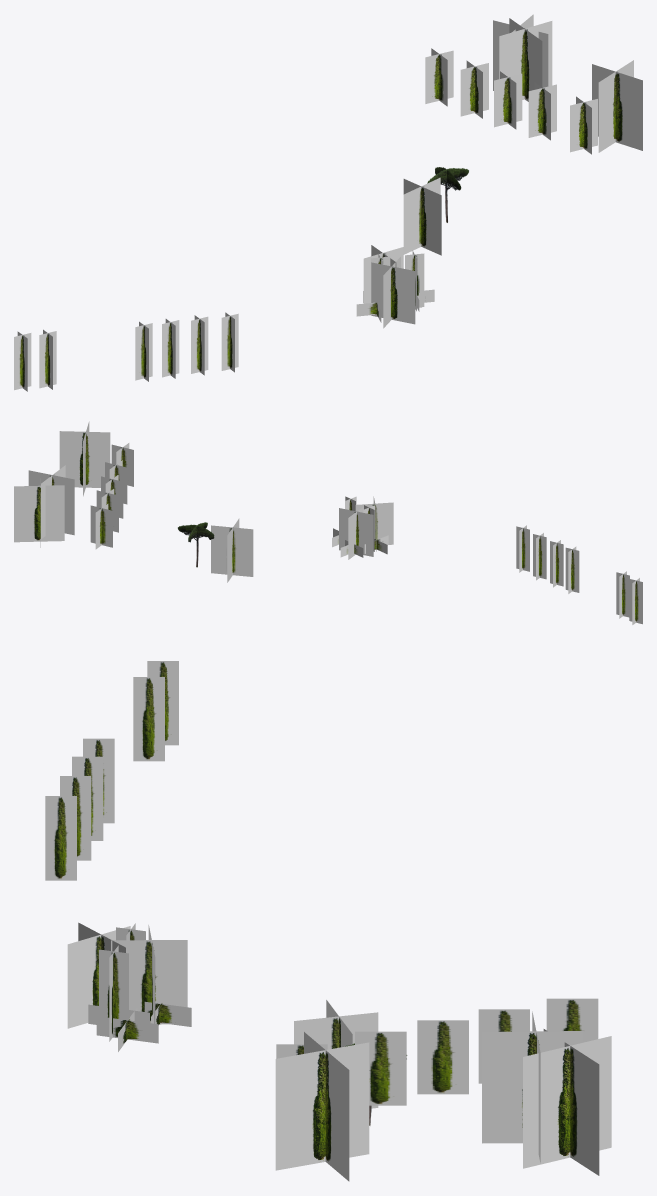
Rendered from trees2.glb.
3 renders of one model, top to bottom at view 1: azimuth 30°, elevation 25°; view 2: azimuth 150°, elevation 25°; view 3: azimuth 270°, elevation 25°, orthographic. The views are drawn at different scales.
Parts seen in each view (by area): view 1: Plane.033; view 2: Plane.033; view 3: Plane.033.
Boxes of the visible parts, x1,y1,x2,y2 form: Plane.033: [14, 14, 642, 391]; Plane.033: [14, 421, 642, 624]; Plane.033: [45, 661, 611, 1181].
Size of the model in its own units: 540 by 100 by 246.
Materials: 2 (2 with a texture image).
